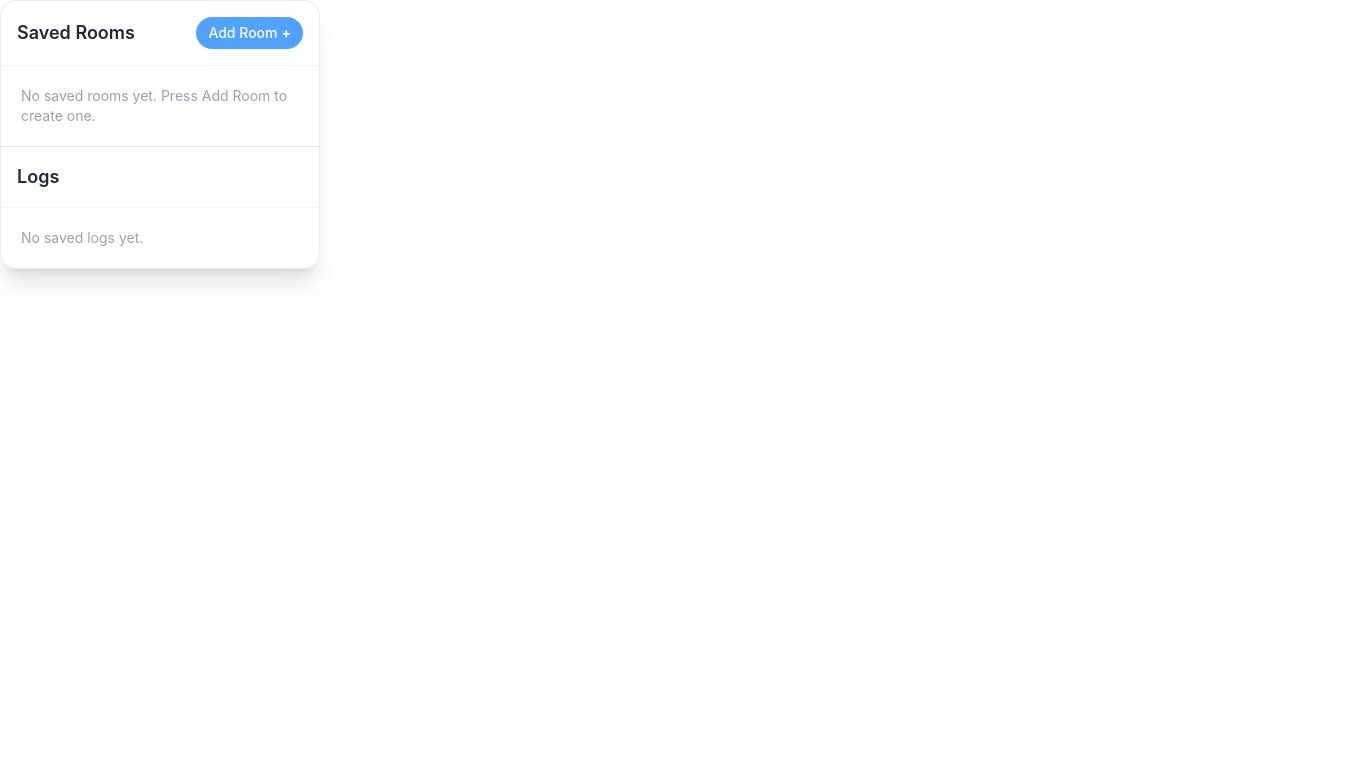
Scenario: Rooms: Customize New Room › CASE-012: valid room size › shows the saved room as read-only details and adds it to Saved Rooms
Expected: the text "No saved rooms yet. Press Add Room to create one." is shown, [21,87,287,124]
Click the button "Add Room +".
click(250, 33)  # box [196,17,303,49]
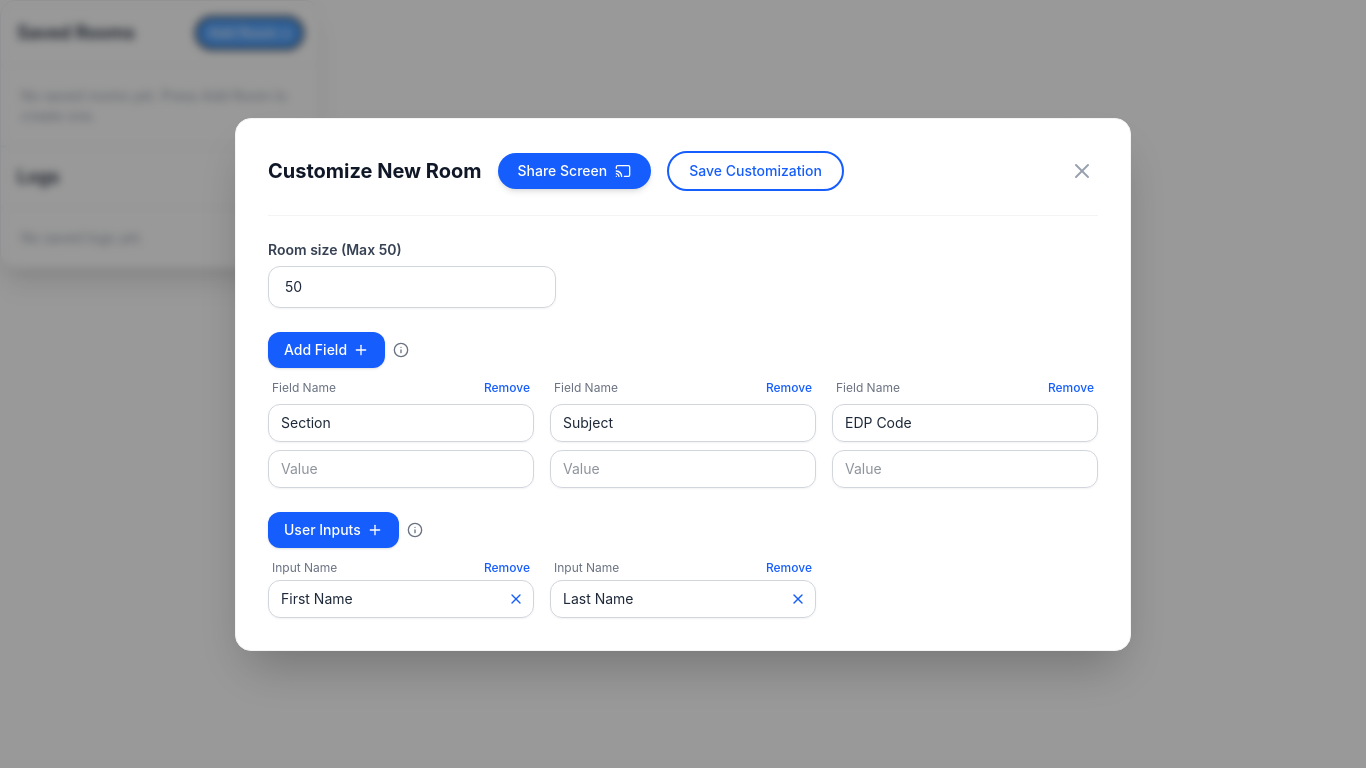
Expected: the heading "Customize New Room" is shown, [268,156,482,184]
Type "30" into the field below "Room size (Max".
click(412, 286); type("30")  # box [268,266,556,308]
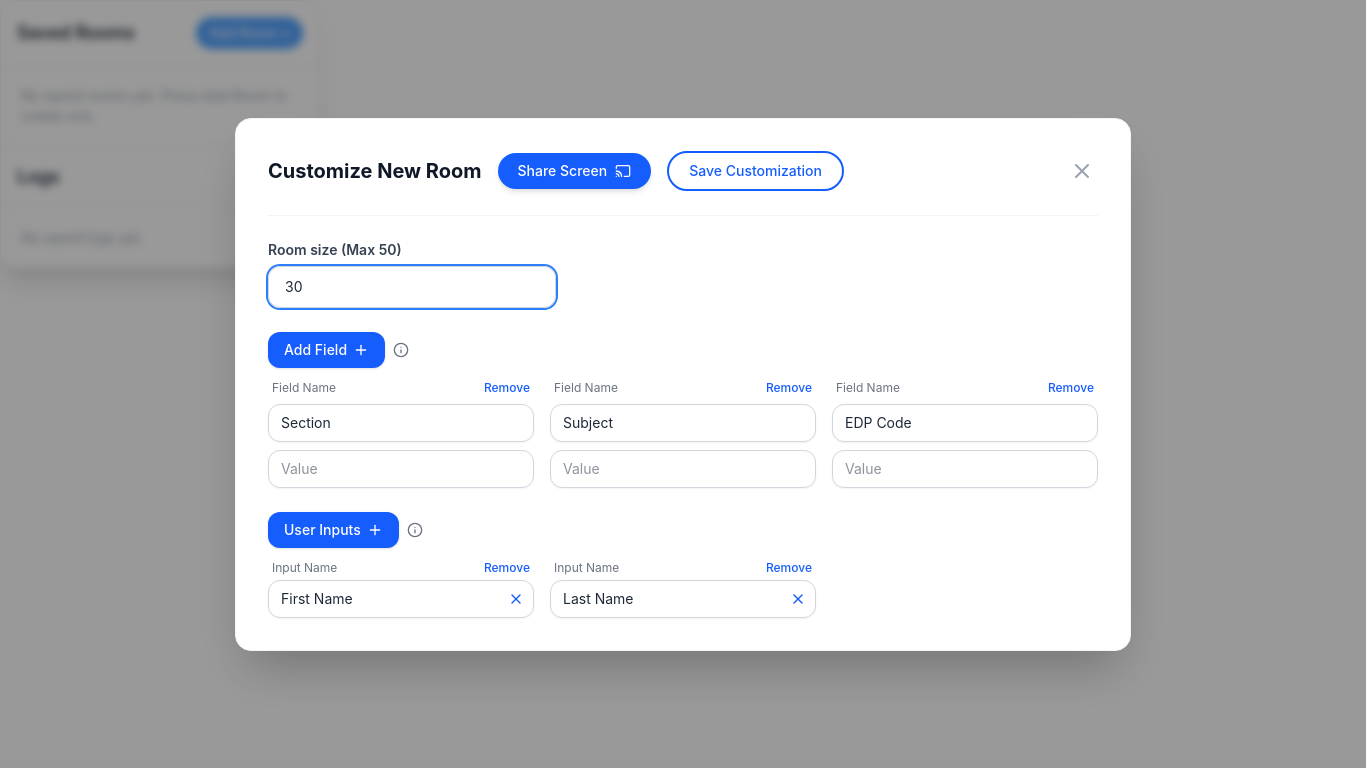
Click the button "Save Customization".
click(756, 170)  # box [667,150,844,190]
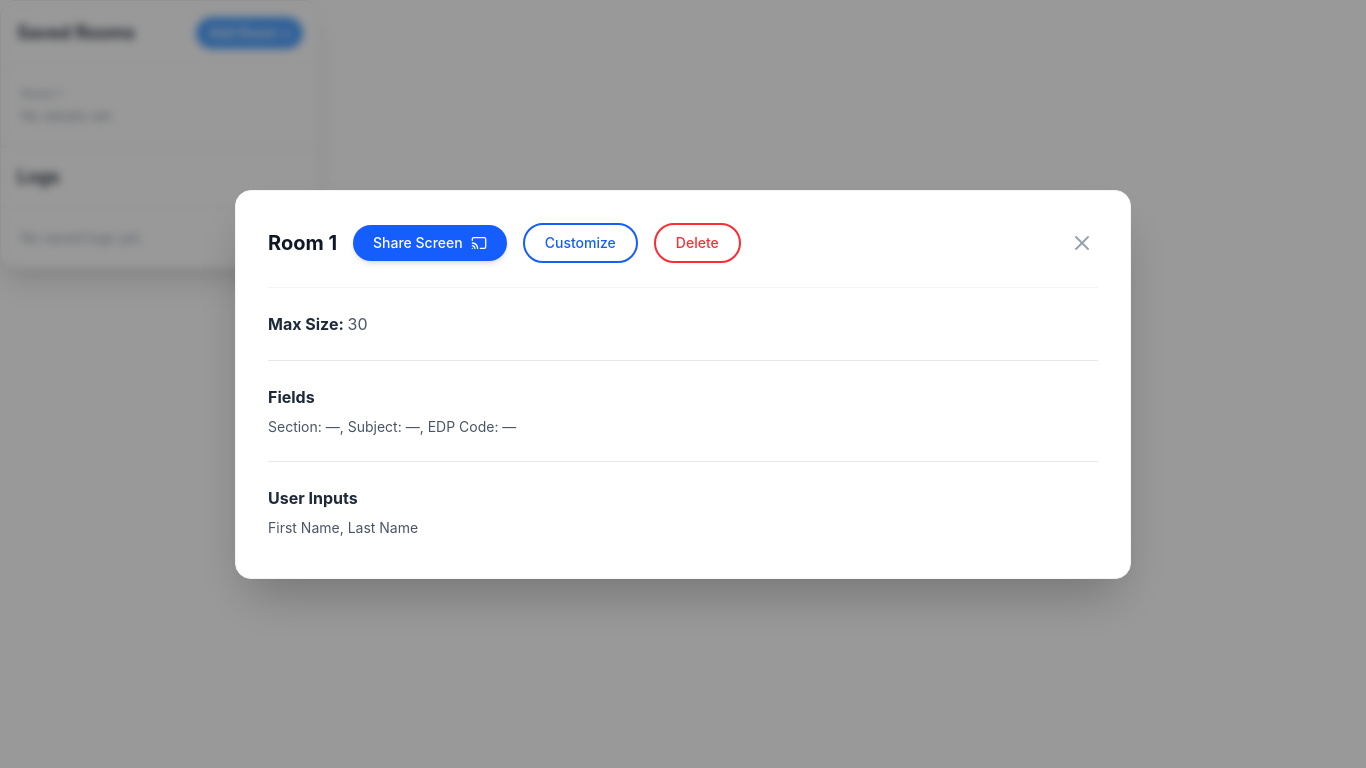
Expected: the text "Max Size:" is shown, [268,314,348,334]
Expected: the text "30" is shown, [348,314,368,334]
Expected: the button "Save Customization" is gone
